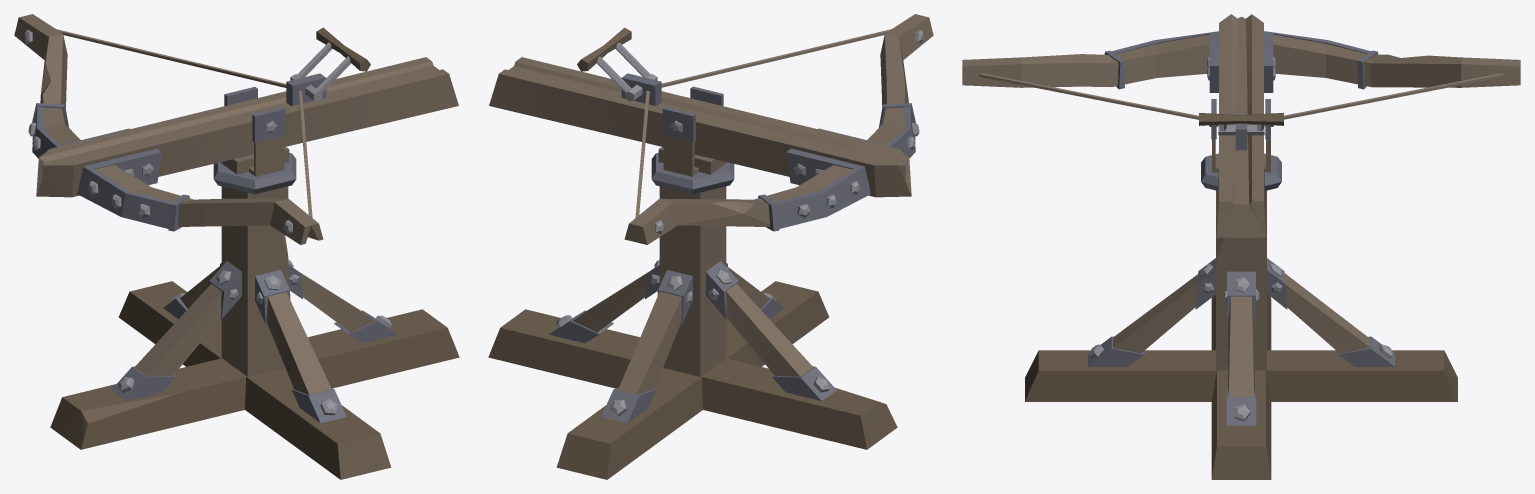
File: _big_crossbow.fbx
The picture shows the model from 3 angles, left to right: view 1: azimuth 30°, elevation 25°; view 2: azimuth 150°, elevation 25°; view 3: azimuth 270°, elevation 25°; orthographic projection. The views are drawn at different scales.
Visible parts, largest first — view 1: BIG_CROSSBOW_MAIN; view 2: BIG_CROSSBOW_MAIN; view 3: BIG_CROSSBOW_MAIN.
Boxes of the visible parts, x1,y1,x2,y2 form: BIG_CROSSBOW_MAIN: (14,14,459,479); BIG_CROSSBOW_MAIN: (488,14,933,479); BIG_CROSSBOW_MAIN: (962,14,1520,479).
Size of the model in its own units: 312 by 238 by 378.
